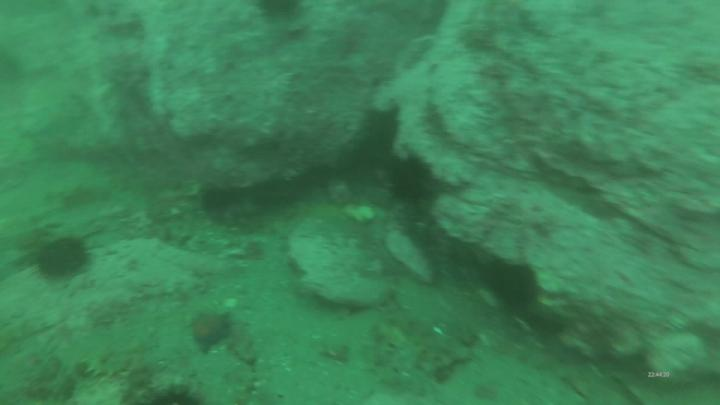echinus: (486, 261, 542, 316), (390, 157, 441, 211), (37, 236, 92, 284), (142, 380, 207, 405), (199, 184, 246, 217), (255, 1, 304, 18)
holothurian: (82, 344, 131, 382)
starfish: (186, 308, 237, 360)
